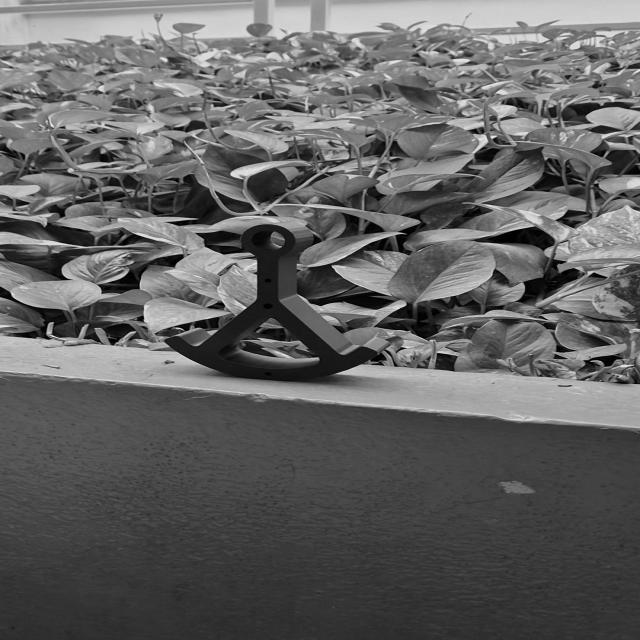haptic: (162, 221, 393, 381)
